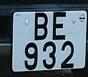2: (57, 39, 78, 69)
3: (39, 41, 59, 69)
9: (23, 41, 41, 69)
B: (31, 13, 51, 41)
E: (49, 12, 69, 40)
